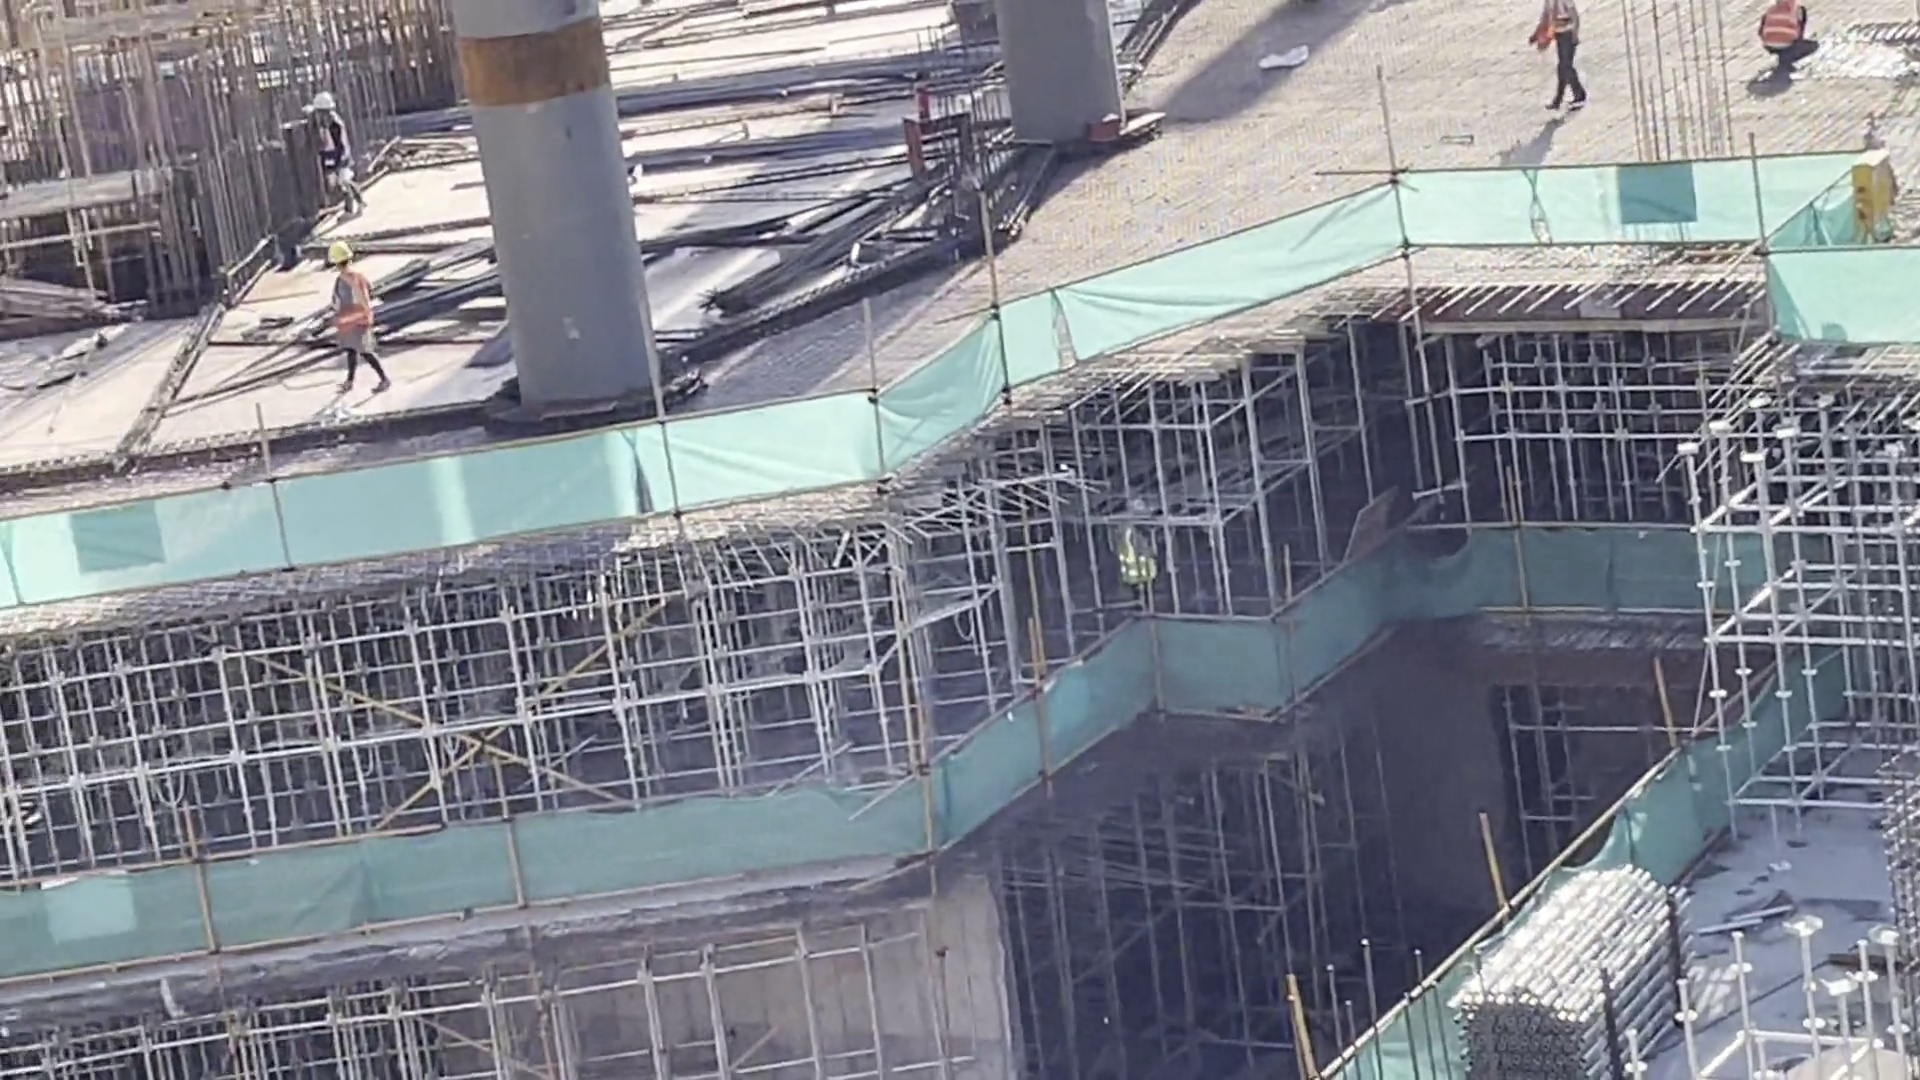ebox: (1833, 132, 1908, 250)
helmet: (326, 235, 354, 267), (308, 87, 333, 109)
person: (322, 232, 392, 391), (301, 90, 378, 219), (1538, 1, 1597, 109), (1110, 504, 1166, 609), (1754, 1, 1815, 80)
rebar: (711, 179, 929, 319), (614, 62, 996, 109), (616, 133, 910, 176), (373, 280, 500, 342), (367, 249, 469, 300)
scaffold: (1452, 854, 1721, 1066)
vest: (329, 262, 380, 344), (309, 118, 355, 178), (1767, 1, 1804, 58), (1124, 531, 1156, 583), (1548, 1, 1577, 49)
